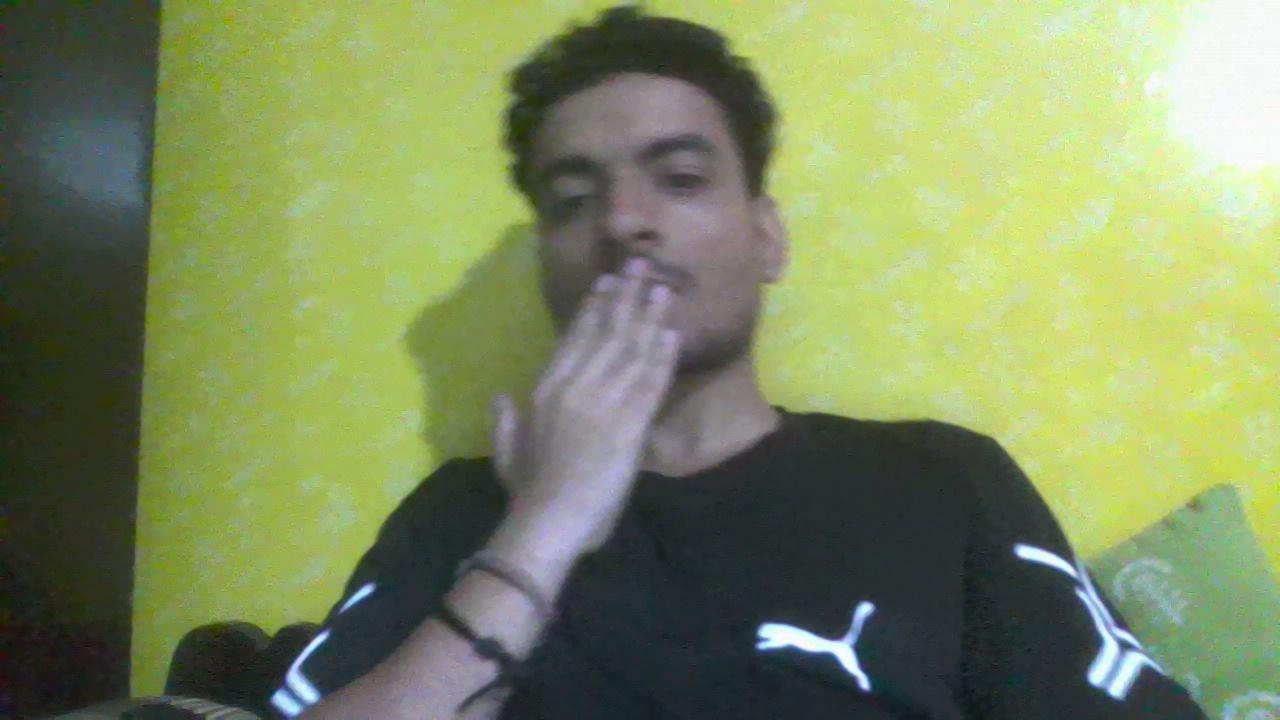Thank You: (476, 253, 738, 556)
